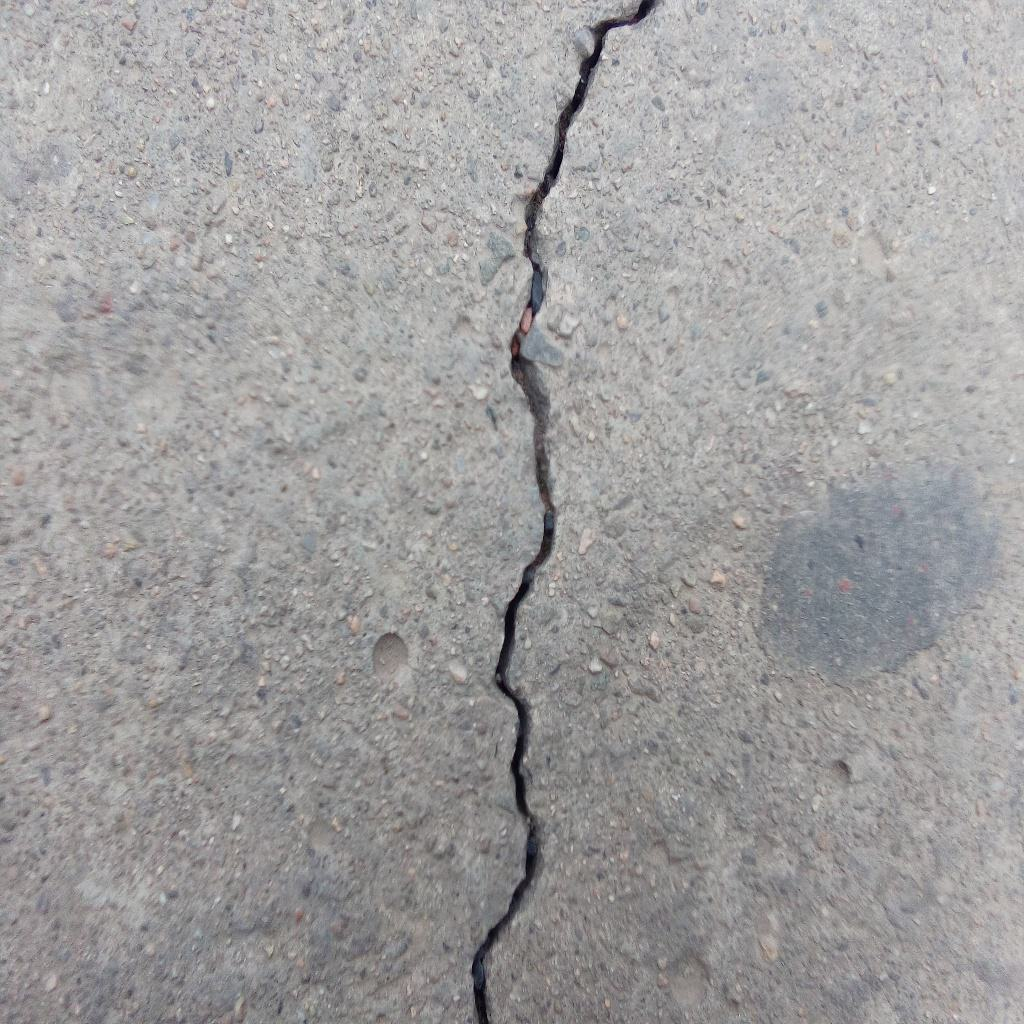Crack: (468, 1, 658, 1024)
